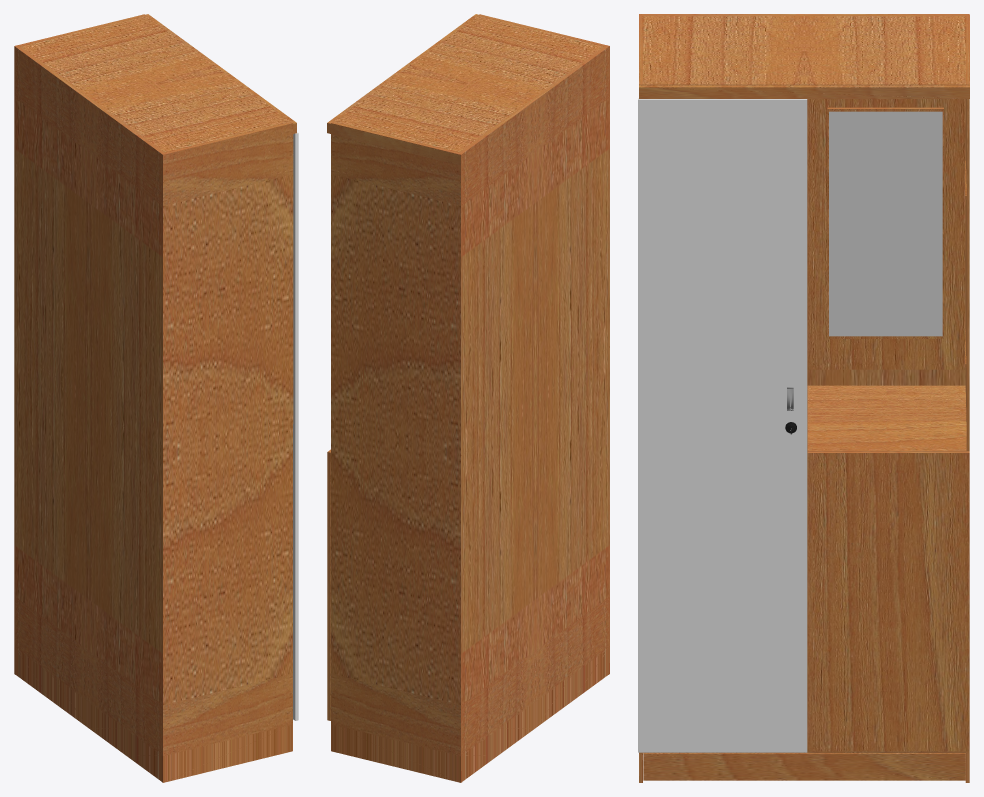
Rendered from LemariWood.fbx.
3 views of the same model, side by side, from view 1: azimuth 30°, elevation 25°; view 2: azimuth 150°, elevation 25°; view 3: azimuth 270°, elevation 25° (orthographic). The views are drawn at different scales.
Visible parts, largest first — view 1: Cube.001, dor, Cube.002; view 2: Cube.001, Cube.002, DorDown; view 3: dor, DorDown, DorUp, Cube.001, Cube.007, Cube, Cube.002, Cube.003.
Boxes of the visible parts, x1,y1,x2,y2 form: Cube.001: (14, 14, 293, 782); dor: (293, 132, 298, 720); Cube.002: (145, 14, 296, 133); Cube.001: (331, 14, 609, 782); Cube.002: (327, 14, 478, 165); DorDown: (327, 449, 330, 720); dor: (638, 98, 807, 752); DorDown: (807, 451, 969, 751); DorUp: (807, 99, 965, 369); Cube.001: (639, 14, 969, 782); Cube.007: (807, 385, 966, 451); Cube: (643, 753, 965, 780); Cube.002: (639, 15, 969, 98); Cube.003: (807, 99, 807, 751).
Bounding box in the file's own units: 45.75 × 184 × 79.2.
